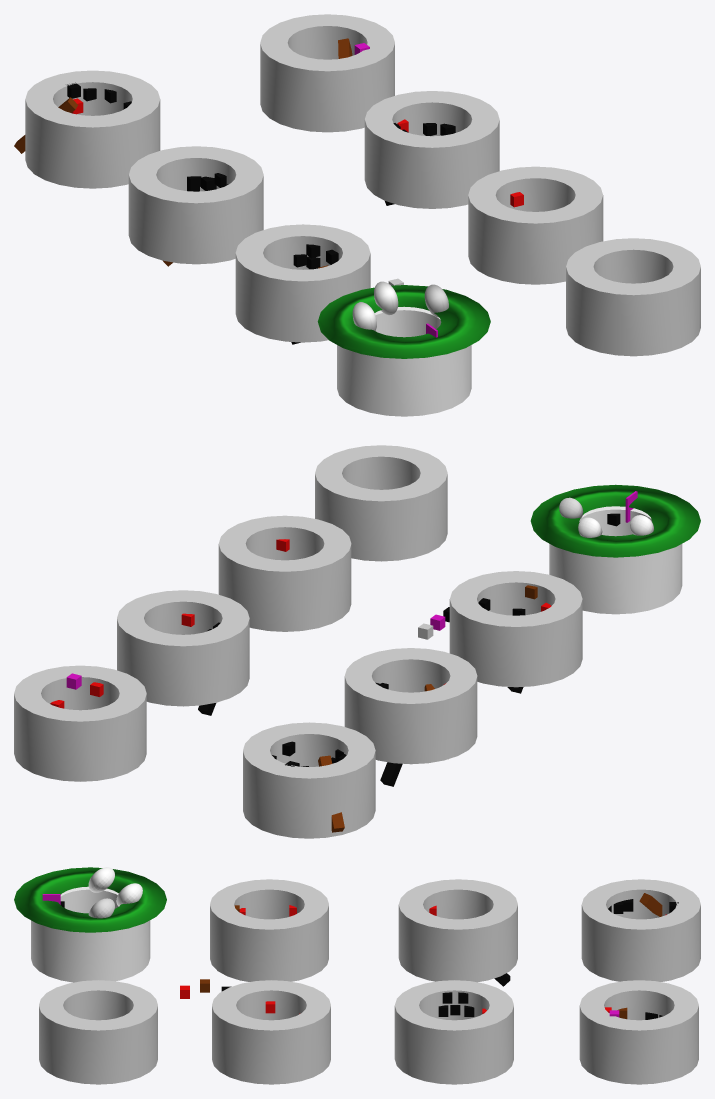
3 renders of one model, top to bottom at view 1: azimuth 30°, elevation 25°; view 2: azimuth 150°, elevation 25°; view 3: azimuth 270°, elevation 25°, orthographic. The views are drawn at different scales.
Parts seen in each view (by area): view 1: cylinder_hollow_261, cylinder_hollow_266, cylinder_hollow_259, cylinder_hollow_265, cylinder_hollow_264, cylinder_hollow_260, cylinder_hollow_258, cylinder_hollow_253, cylinder_donut_273, sphere_full_283; view 2: cylinder_hollow_266, cylinder_hollow_259, cylinder_hollow_260, cylinder_hollow_264, cylinder_hollow_265, cylinder_hollow_258, cylinder_hollow_261, cylinder_hollow_253, cylinder_donut_273; view 3: cylinder_hollow_261, cylinder_hollow_259, cylinder_hollow_264, cylinder_hollow_266, cylinder_hollow_258, cylinder_hollow_265, cylinder_hollow_260, cylinder_hollow_253, cylinder_donut_273, sphere_full_282, sphere_full_283, sphere_full_281.
Boxes of the visible parts, left/top/right/bottom form: cylinder_hollow_261: left=566, top=238, right=700, bottom=356; cylinder_hollow_266: left=260, top=14, right=394, bottom=132; cylinder_hollow_259: left=128, top=146, right=263, bottom=264; cylinder_hollow_265: left=364, top=91, right=499, bottom=208; cylinder_hollow_264: left=468, top=166, right=603, bottom=284; cylinder_hollow_260: left=25, top=70, right=160, bottom=188; cylinder_hollow_258: left=235, top=224, right=370, bottom=342; cylinder_hollow_253: left=337, top=306, right=471, bottom=416; cylinder_donut_273: left=317, top=285, right=490, bottom=358; sphere_full_283: left=374, top=281, right=398, bottom=315; cylinder_hollow_266: left=14, top=665, right=146, bottom=781; cylinder_hollow_259: left=344, top=648, right=477, bottom=764; cylinder_hollow_260: left=243, top=722, right=375, bottom=838; cylinder_hollow_264: left=218, top=515, right=351, bottom=631; cylinder_hollow_265: left=117, top=590, right=249, bottom=706; cylinder_hollow_258: left=449, top=571, right=582, bottom=687; cylinder_hollow_261: left=315, top=445, right=447, bottom=561; cylinder_hollow_253: left=549, top=506, right=682, bottom=614; cylinder_donut_273: left=530, top=484, right=700, bottom=557; cylinder_hollow_261: left=39, top=980, right=157, bottom=1084; cylinder_hollow_259: left=398, top=879, right=517, bottom=982; cylinder_hollow_264: left=212, top=980, right=330, bottom=1084; cylinder_hollow_266: left=579, top=980, right=698, bottom=1084; cylinder_hollow_258: left=210, top=879, right=328, bottom=981; cylinder_hollow_265: left=394, top=980, right=513, bottom=1084; cylinder_hollow_260: left=581, top=879, right=700, bottom=981; cylinder_hollow_253: left=31, top=886, right=150, bottom=982; cylinder_donut_273: left=14, top=867, right=166, bottom=932; sphere_full_282: left=88, top=867, right=114, bottom=892; sphere_full_283: left=116, top=883, right=142, bottom=906; sphere_full_281: left=88, top=898, right=114, bottom=918.
Size of the model in its own units: 18.85 by 5.75 by 34.55.
